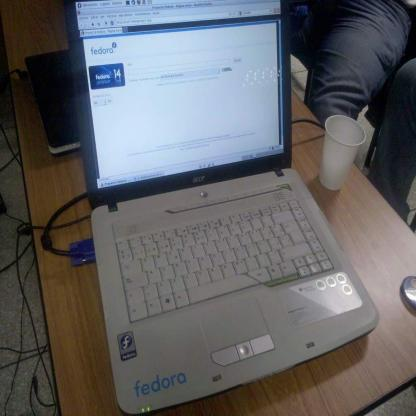board: (63, 0, 381, 414)
